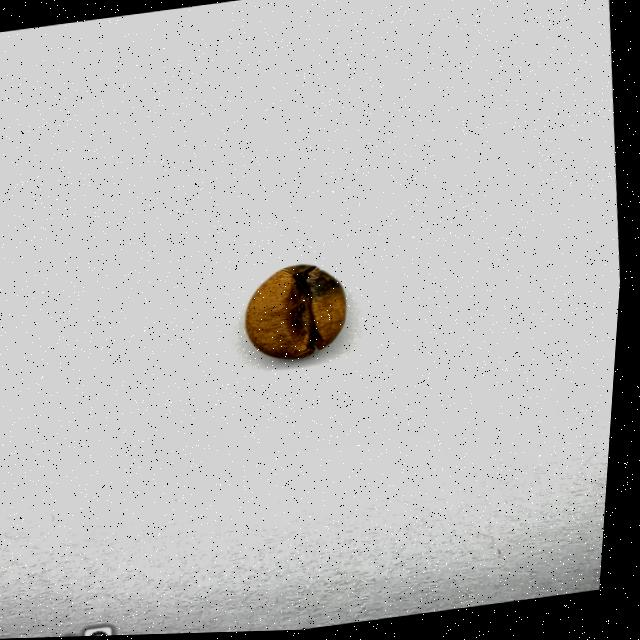Scorched: (245, 258, 356, 368)
